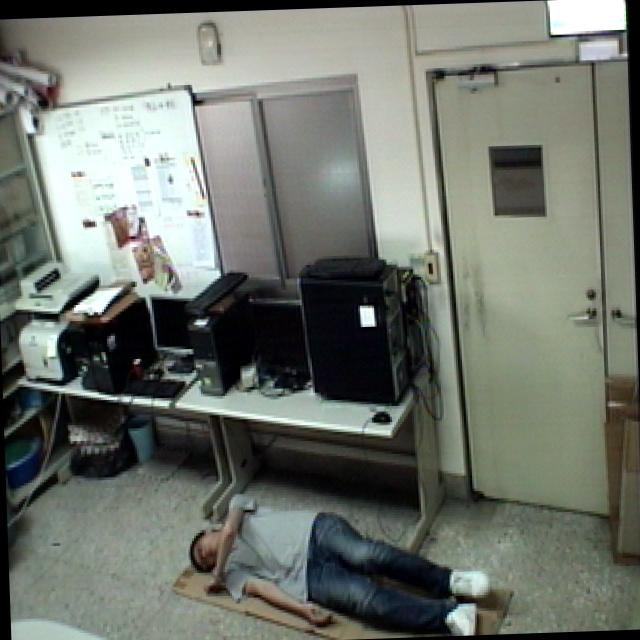lie: (180, 476, 493, 640)
